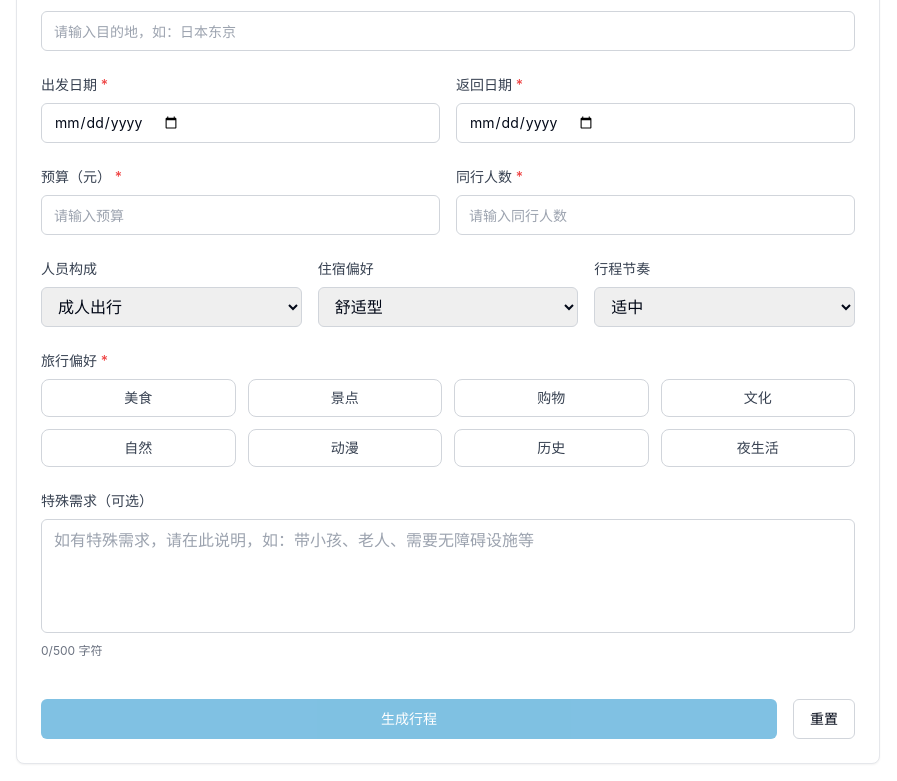
Test: ItineraryPlanner › 表单输入 › 应该显示字符计数
(page scrolled)
Type "带小孩和老人" into the text box labelled "特殊需求（可选）".
click(448, 576); type("带小孩和老人")  # box [41, 519, 855, 633]
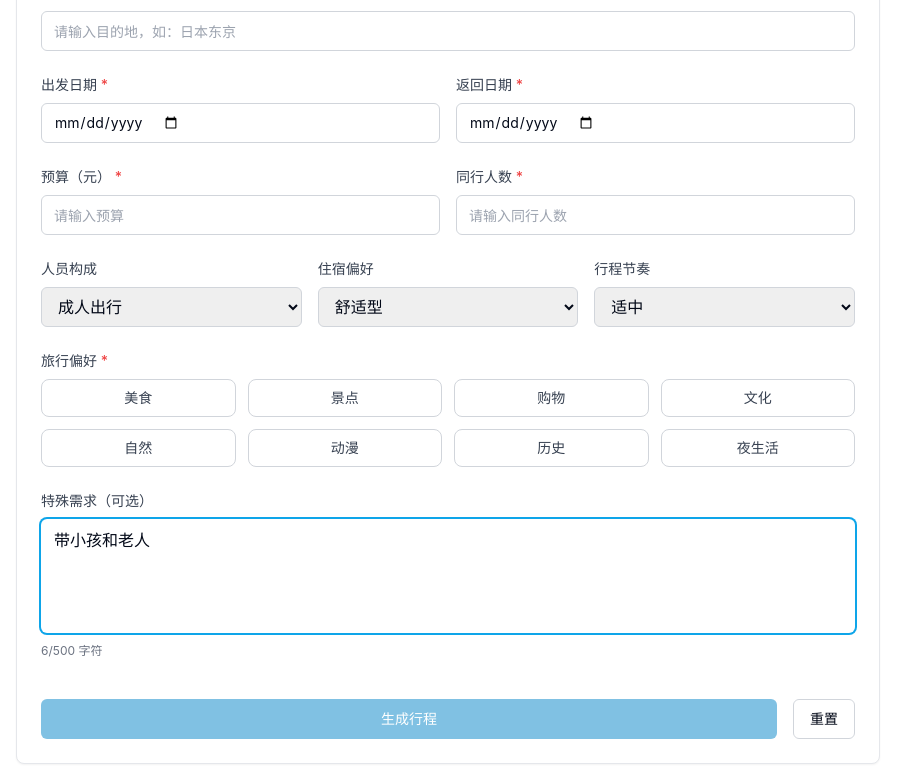
Expected: the text "6/500 字符" is shown, [41, 643, 102, 658]
